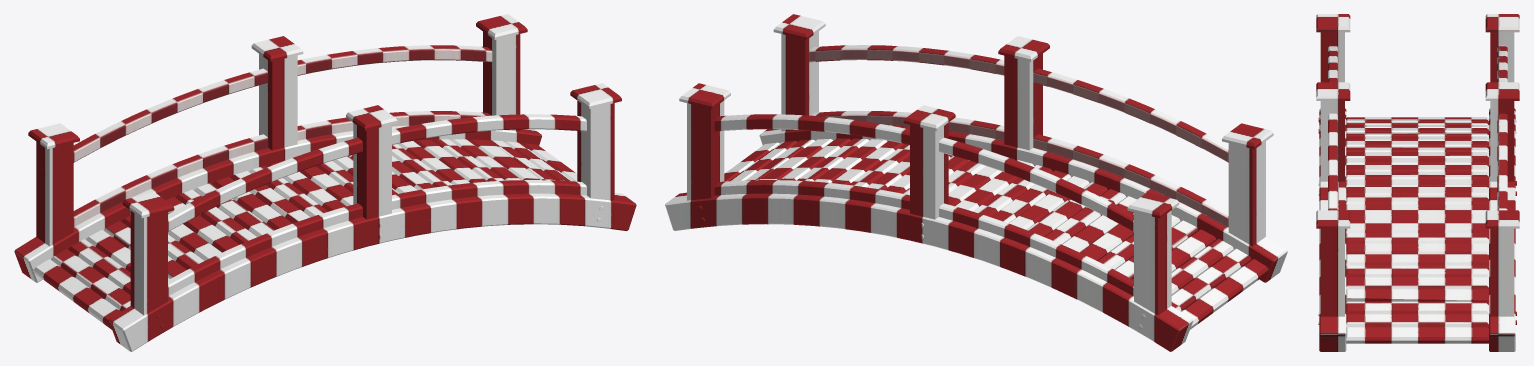
The model's file is Ponte1.fbx.
3 views of the same model, side by side, from view 1: azimuth 30°, elevation 25°; view 2: azimuth 150°, elevation 25°; view 3: azimuth 270°, elevation 25° (orthographic). The views are drawn at different scales.
Visible parts, largest first — view 1: Ponte3; view 2: Ponte3; view 3: Ponte3.
Boxes of the visible parts, x1,y1,x2,y2 form: Ponte3: (14, 14, 636, 351); Ponte3: (665, 14, 1287, 351); Ponte3: (1316, 14, 1519, 351).
Bounding box in the file's own units: 6.14 × 1.96 × 2.34.
1 material, 1 textured.
